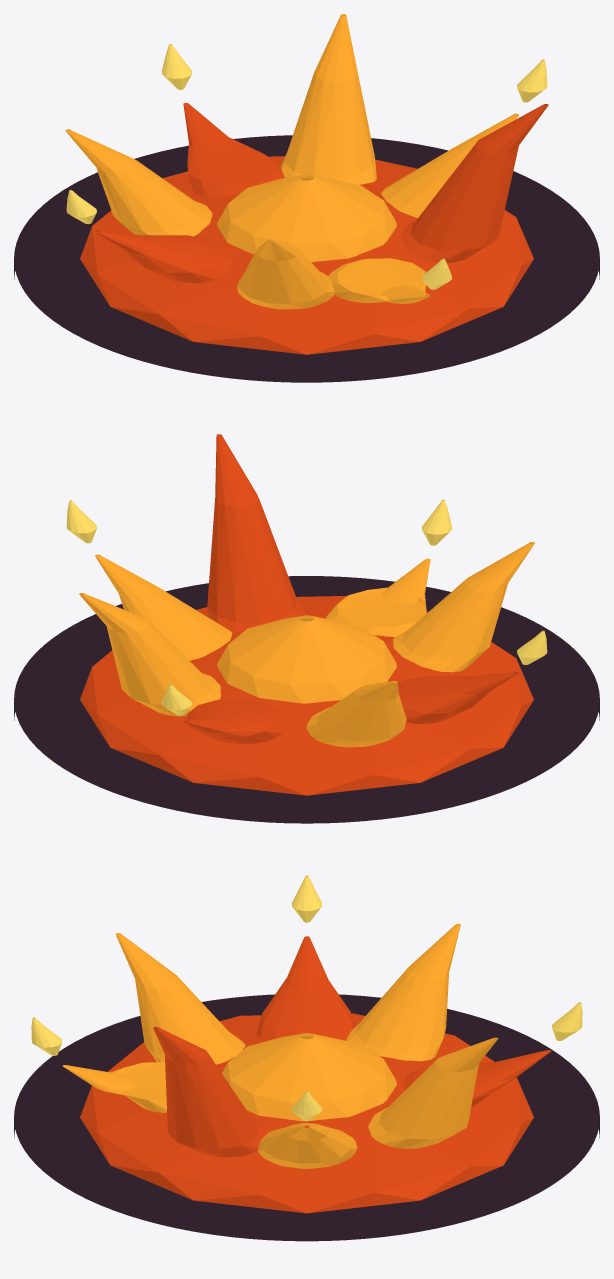
The picture shows the model from 3 angles, top to bottom: view 1: azimuth 30°, elevation 25°; view 2: azimuth 150°, elevation 25°; view 3: azimuth 270°, elevation 25°; orthographic projection.
Bounding box in the file's own units: 3.2 × 1.16 × 3.2.
Materials: 16 (16 with a texture image).
